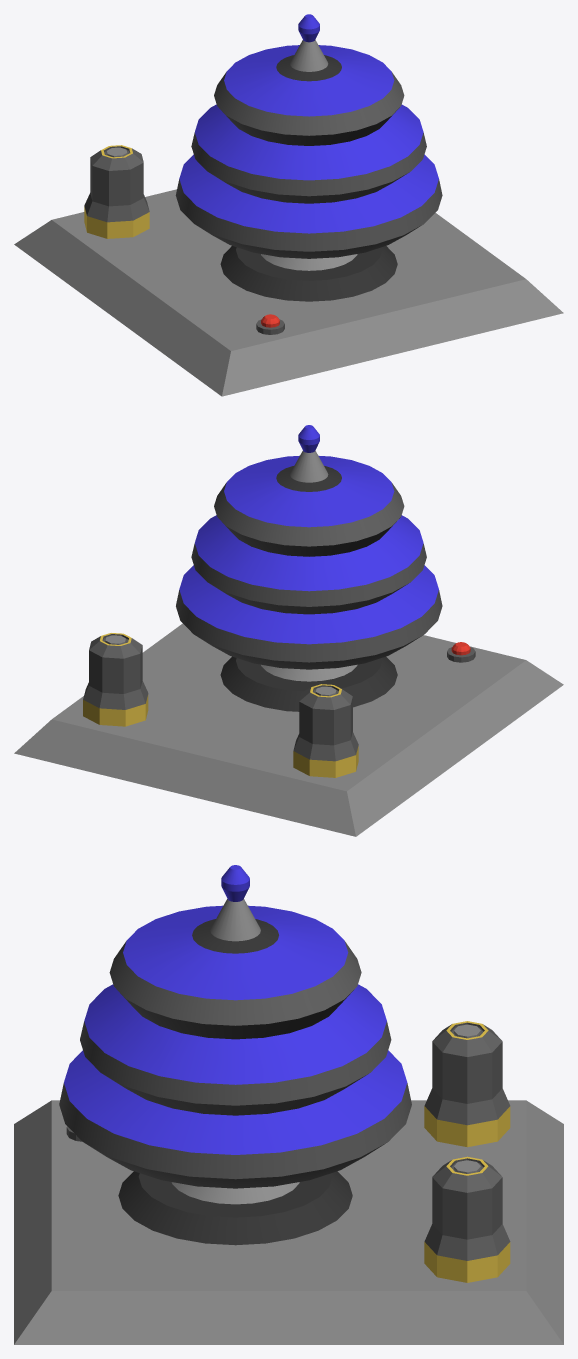
The model's file is transistorBlue.glb.
The picture shows the model from 3 angles, top to bottom: view 1: azimuth 30°, elevation 25°; view 2: azimuth 150°, elevation 25°; view 3: azimuth 270°, elevation 25°; orthographic projection. The views are drawn at different scales.
Parts seen in each view (by area): view 1: Transistor - Blue; view 2: Transistor - Blue; view 3: Transistor - Blue.
Part boxes in pixels (box(x1,y1,x2,y2)): Transistor - Blue: box(14, 14, 563, 396); Transistor - Blue: box(14, 425, 563, 836); Transistor - Blue: box(14, 865, 563, 1344).
Size of the model in its own units: 0.9252 by 0.7173 by 0.974.
